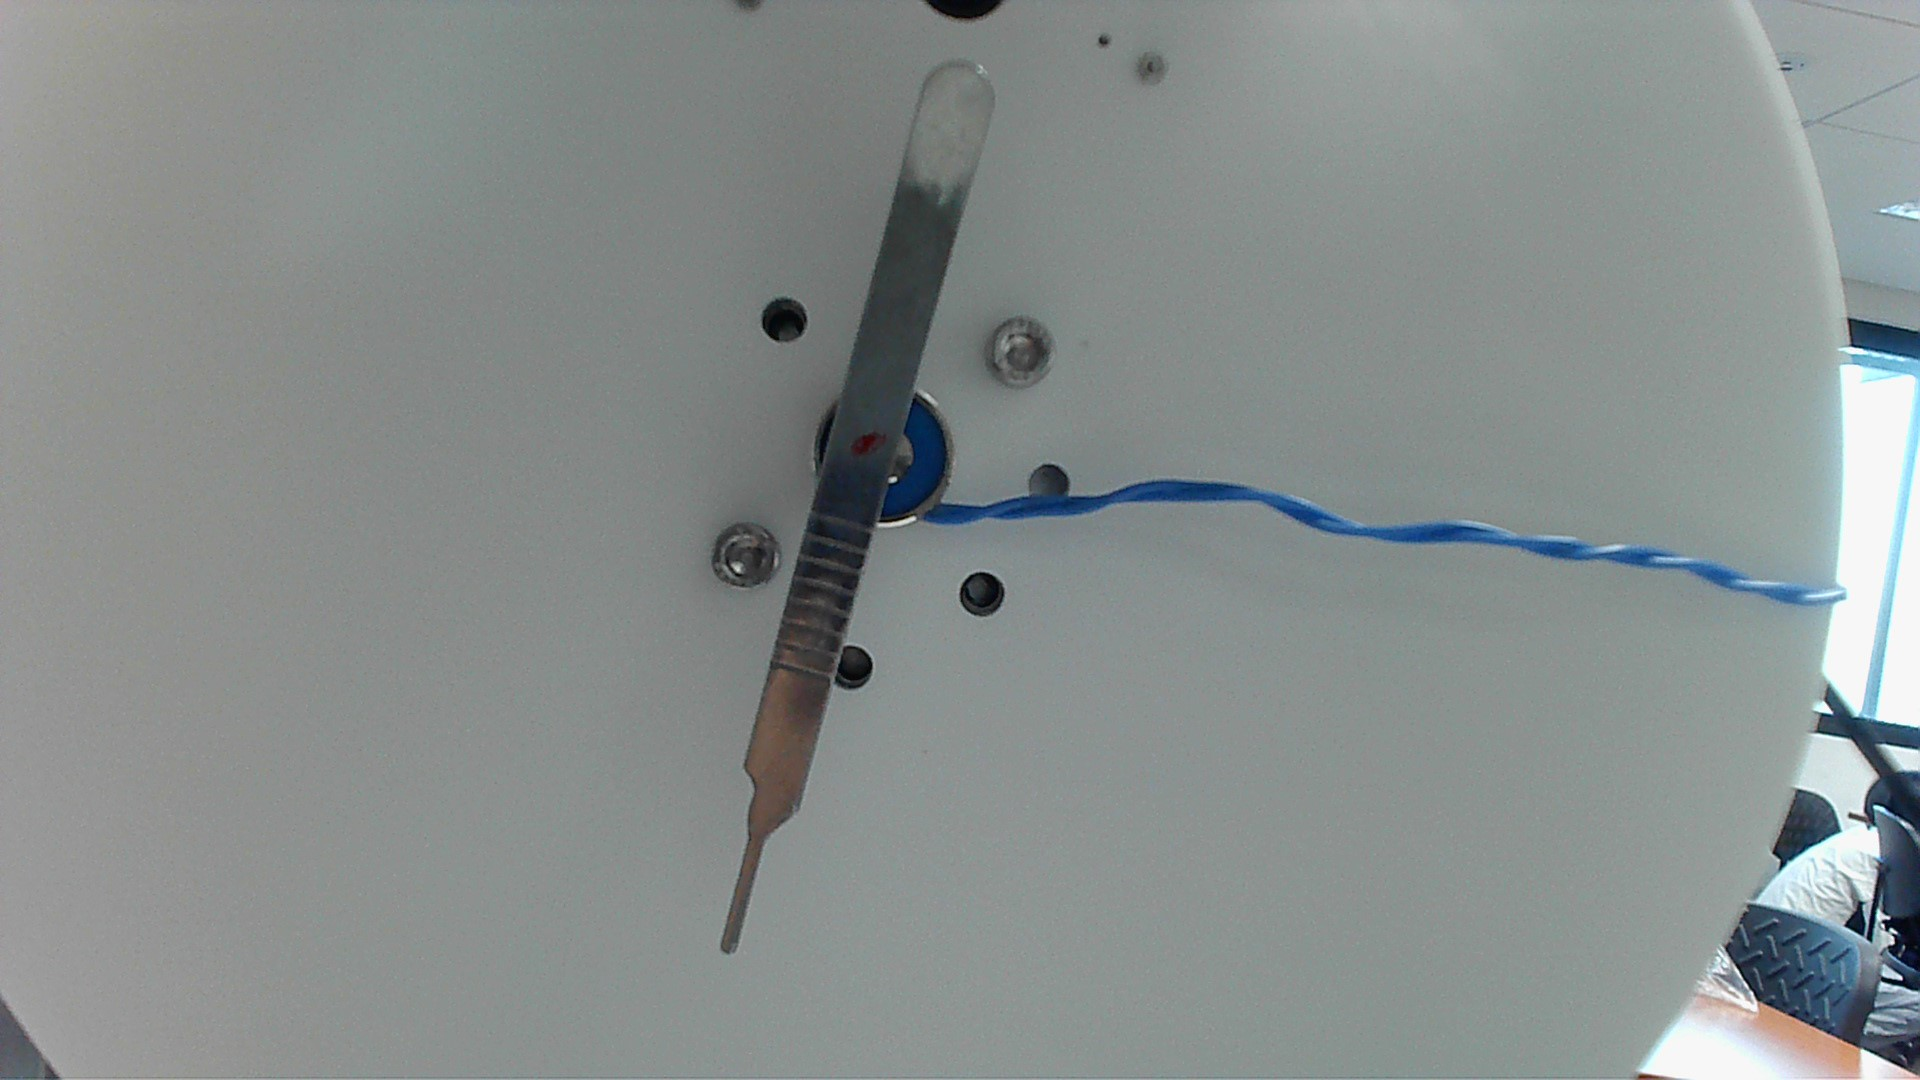Stain: (841, 427, 893, 455)
